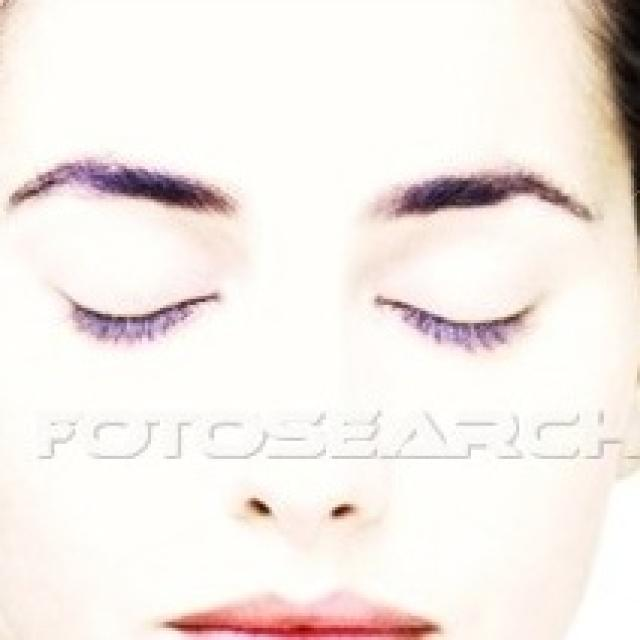Eyeclosed: (380, 282, 532, 368), (62, 274, 218, 355)
